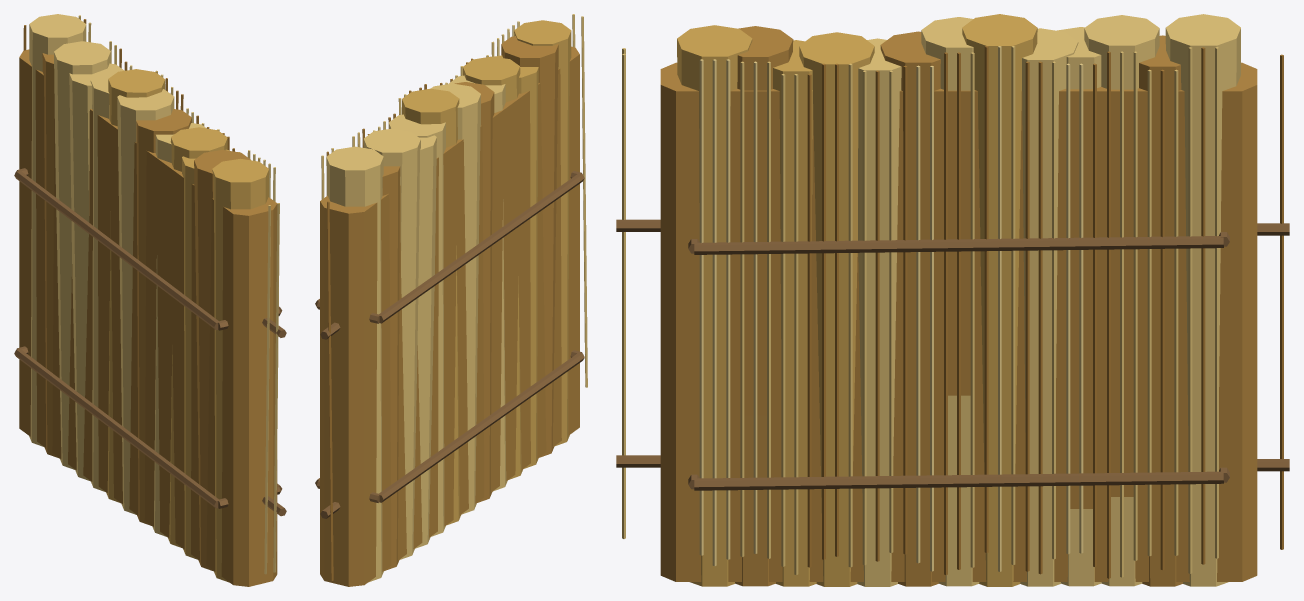
File: straw_right.glb
The picture shows the model from 3 angles, left to right: view 1: azimuth 30°, elevation 25°; view 2: azimuth 150°, elevation 25°; view 3: azimuth 270°, elevation 25°; orthographic projection. The views are drawn at different scales.
Visible parts, largest first — view 1: straw_right; view 2: straw_right; view 3: straw_right.
Boxes of the visible parts, bbox=[...] form: straw_right: bbox=[14, 14, 286, 586]; straw_right: bbox=[315, 14, 587, 586]; straw_right: bbox=[616, 14, 1289, 586].
Bounding box in the file's own units: 0.068 × 0.3928 × 0.44.
